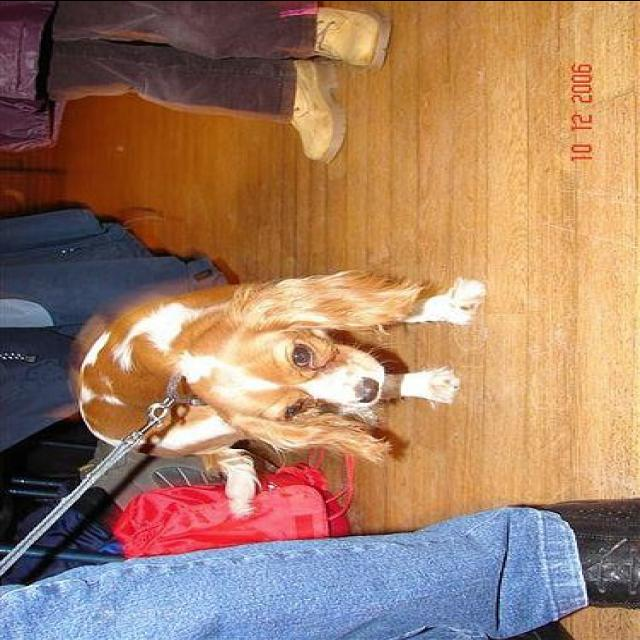blenheim_spaniel: (76, 270, 486, 526)
